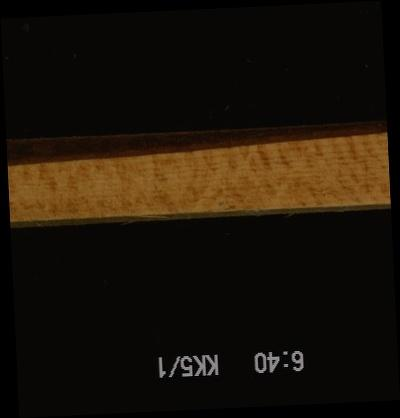wave: (6, 128, 386, 159)
